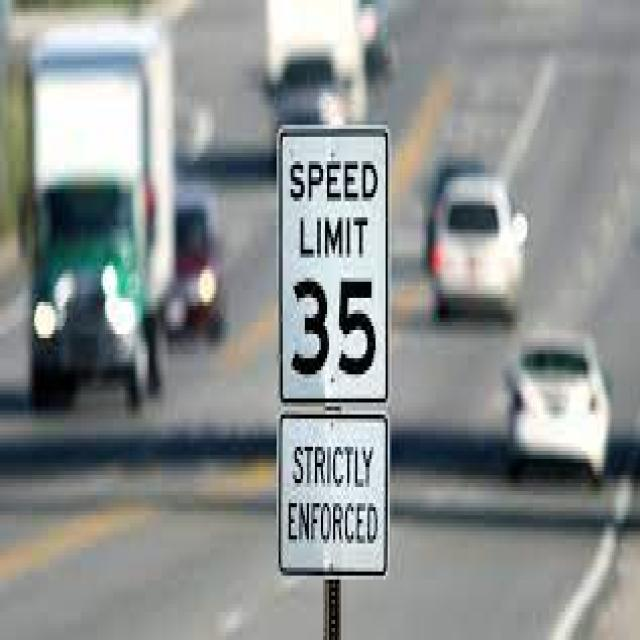speedLimit35: (279, 131, 386, 408)
